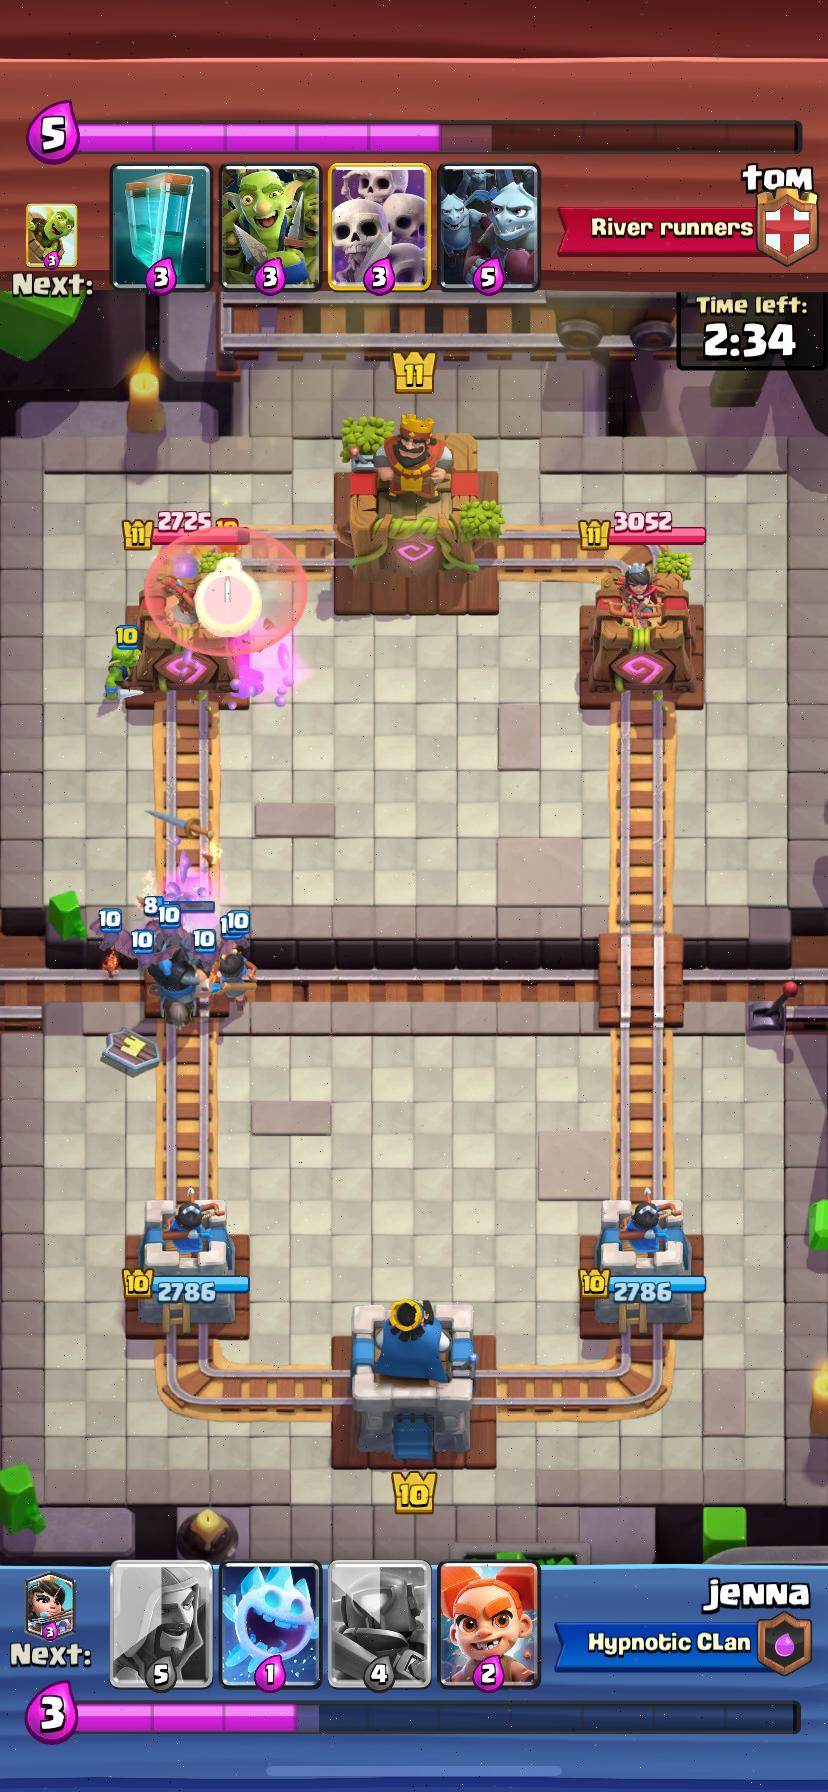EKingTower: (334, 414, 496, 581)
EnemyPrincessTower: (588, 560, 694, 693), (134, 573, 240, 691)
OBat: (114, 929, 181, 973), (143, 921, 190, 943), (89, 919, 120, 951), (191, 934, 220, 967)
ODarkPrince: (149, 933, 212, 1027)
OGoblin: (104, 624, 141, 702)
OPrincess: (218, 946, 255, 1019)
OwnKingTower: (350, 1299, 477, 1461)
OwnPrincessTower: (592, 1199, 704, 1330), (138, 1200, 248, 1326)
